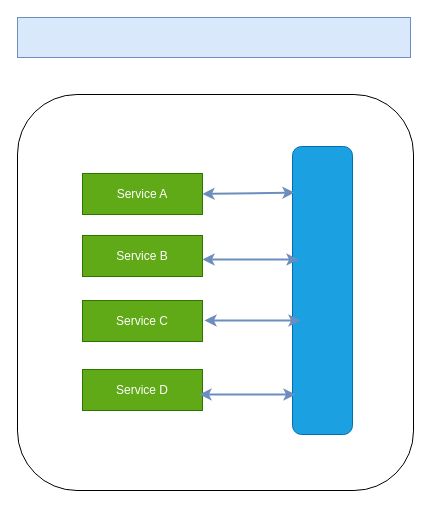
Some shapes in this 431 by 508 pixel diagram are drawn without their labels. Each missing label, with the centre of its shape:
Inter microservices communication: point (213, 37)
Message broker: point (322, 290)
